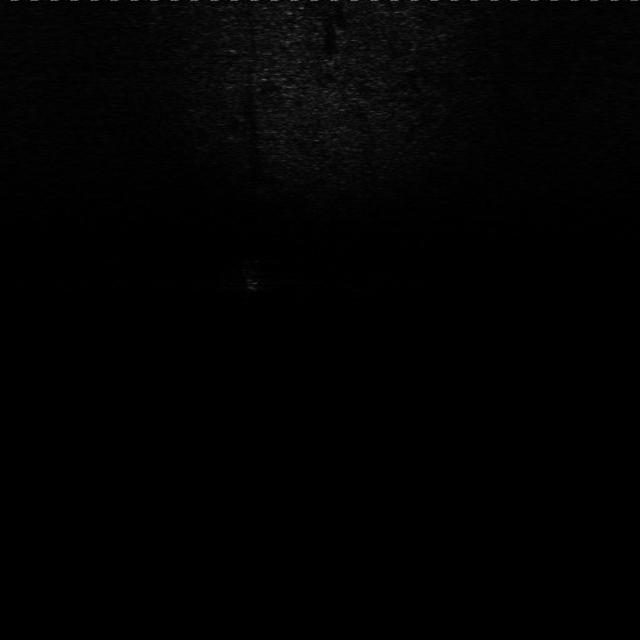human body: (240, 252, 270, 296)
